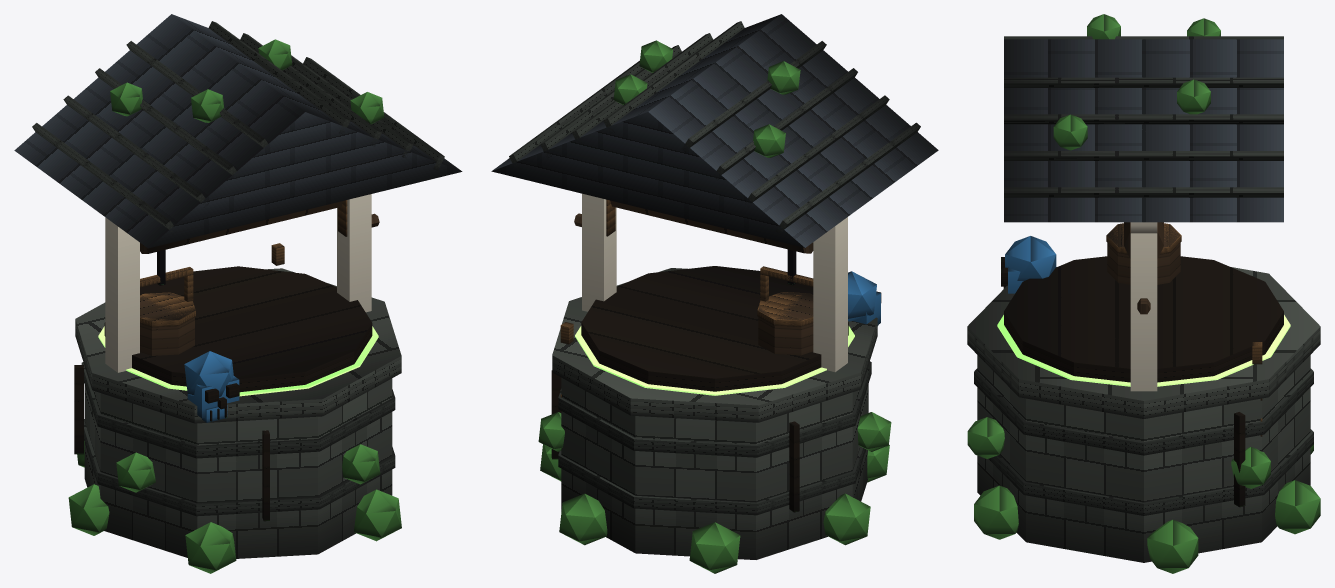
File: well.gltf
3 views of the same model, side by side, from view 1: azimuth 30°, elevation 25°; view 2: azimuth 150°, elevation 25°; view 3: azimuth 270°, elevation 25° (orthographic). The views are drawn at different scales.
Visible parts, largest first — view 1: well; view 2: well; view 3: well.
Boxes of the visible parts, box(x1,y1,x2,y2) form: well: box(14, 14, 462, 573); well: box(491, 14, 938, 573); well: box(967, 14, 1320, 573).
Size of the model in its own units: 1.15 by 1.54 by 1.06.
1 material, 1 textured.
